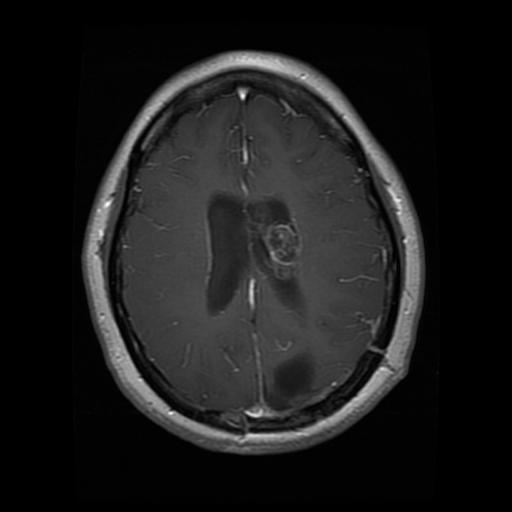Gliomia_tumour: (245, 194, 305, 284)
